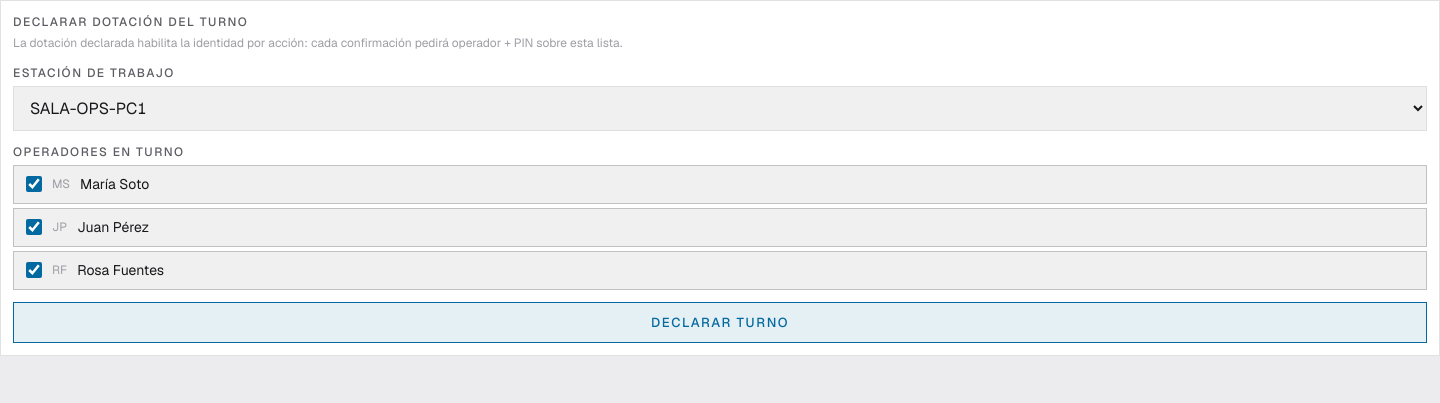
Test: ShiftRosterBar › rejects an empty crew with the store's message
The image size is (1440, 403).
Click the checkbox labelled "MS María Soto" at {"x": 34, "y": 184}, box [26, 176, 42, 192]
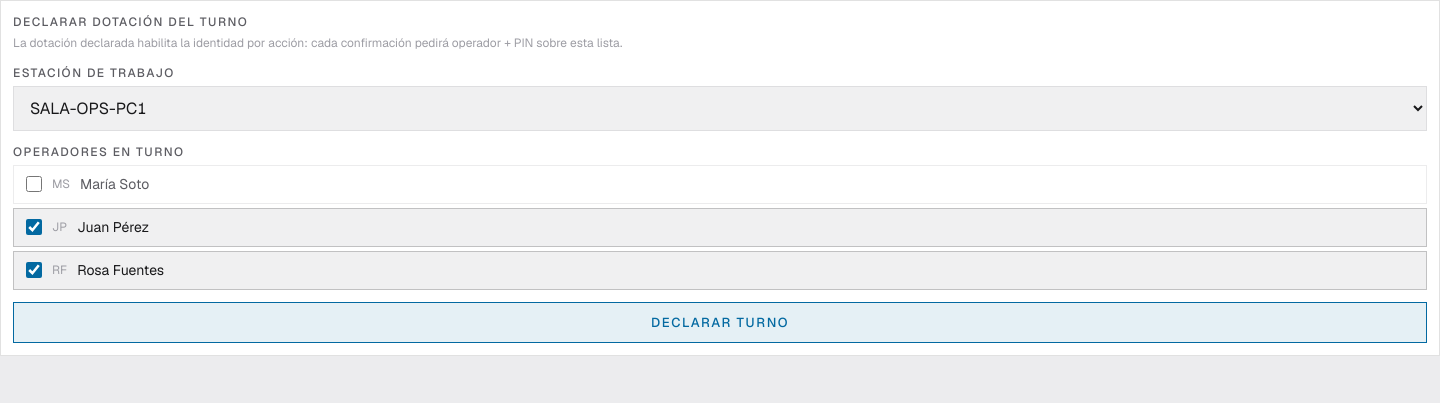
Click the checkbox labelled "JP Juan Pérez" at {"x": 34, "y": 227}, box [26, 219, 42, 235]
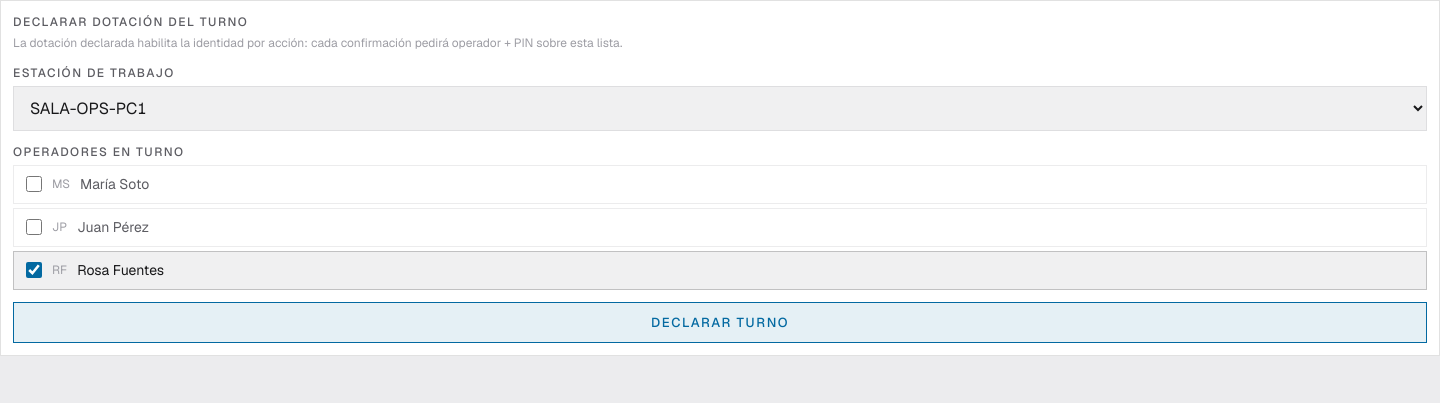
Click the checkbox labelled "RF Rosa Fuentes" at {"x": 34, "y": 270}, box [26, 262, 42, 278]
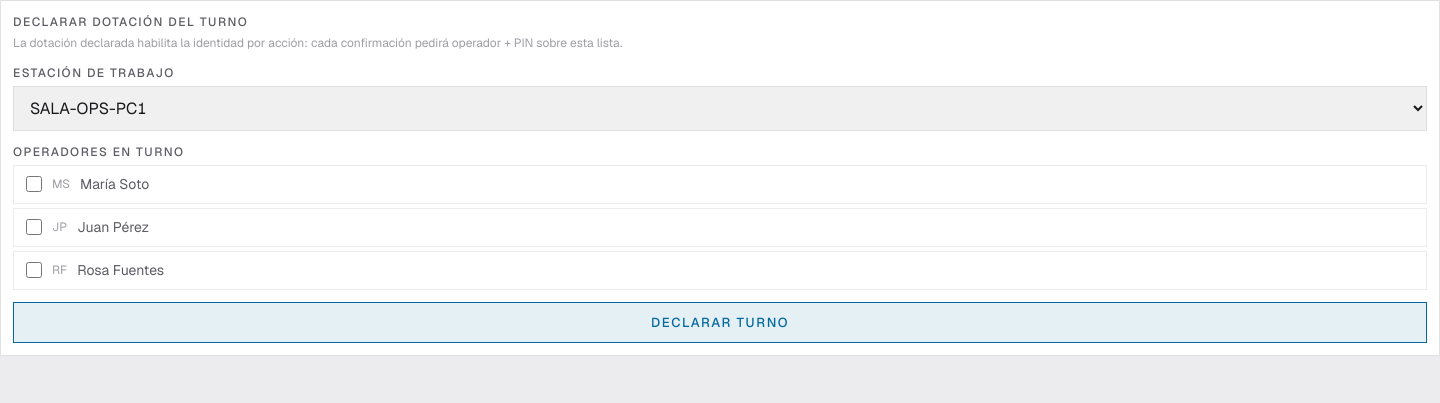
Click the button "Declarar turno" at {"x": 720, "y": 322}, box [13, 302, 1427, 343]
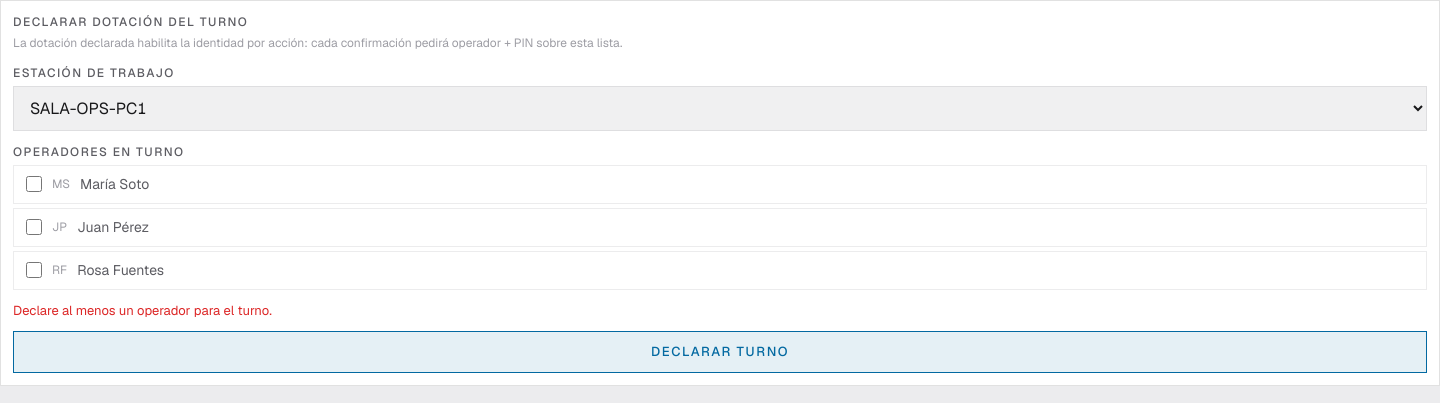
Expected: the message shows "al menos un operador", [13, 302, 272, 318]
